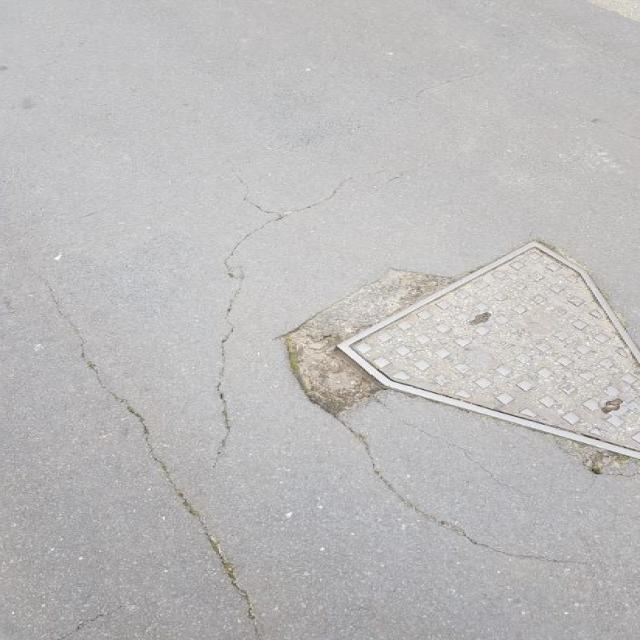pothole: (273, 264, 466, 416)
